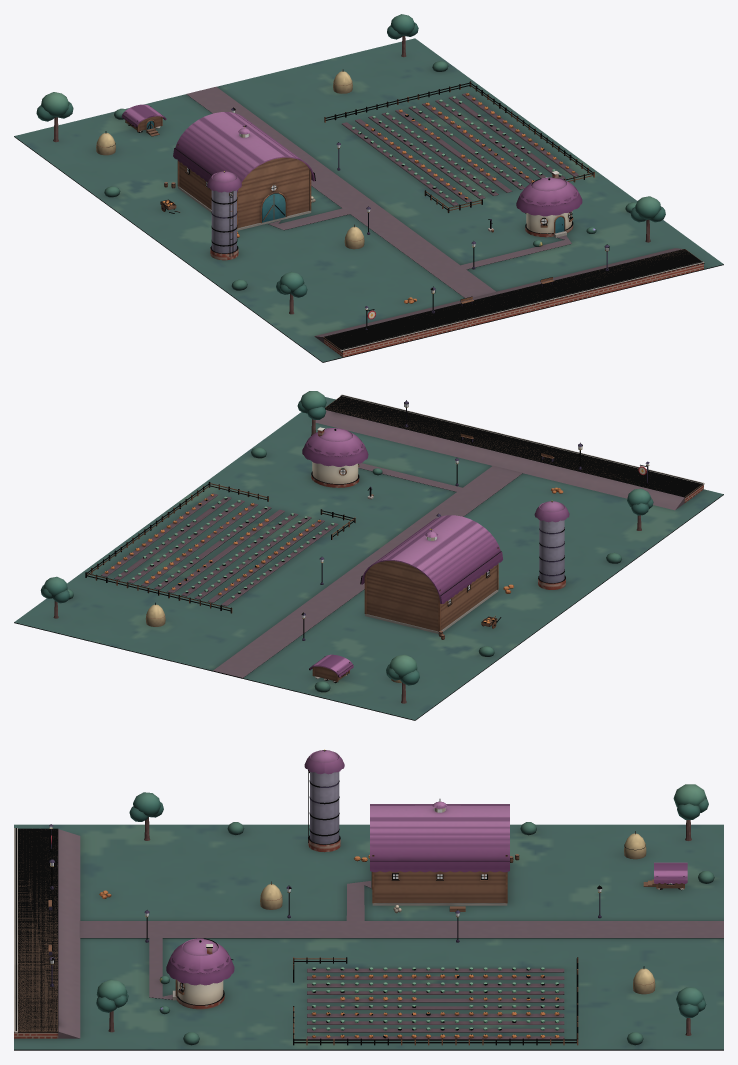
The model's file is stop_farm.fbx.
3 views of the same model, one above another, from view 1: azimuth 30°, elevation 25°; view 2: azimuth 150°, elevation 25°; view 3: azimuth 270°, elevation 25° (orthographic). The views are drawn at different scales.
Parts seen in each view (by area): view 1: stop_farm; view 2: stop_farm; view 3: stop_farm.
Boxes of the visible parts, x1,y1,x2,y2 form: stop_farm: [14, 14, 723, 362]; stop_farm: [14, 391, 723, 720]; stop_farm: [14, 749, 723, 1050].
Bounding box in the file's own units: 12000 × 2405 × 16000.
Materials: 2 (1 with a texture image).
